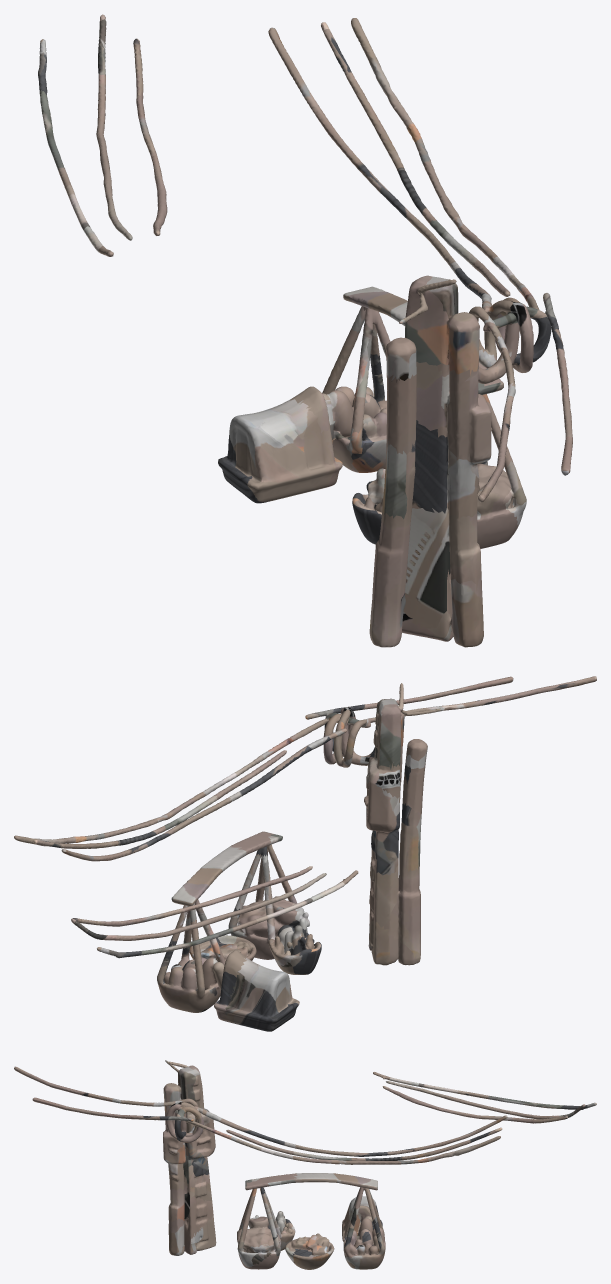
Rendered from hangrong.fbx.
The picture shows the model from 3 angles, top to bottom: view 1: azimuth 30°, elevation 25°; view 2: azimuth 150°, elevation 25°; view 3: azimuth 270°, elevation 25°; orthographic projection. The views are drawn at different scales.
Visible parts, largest first — view 1: tripo_node_246de54b-b4c3-48cb-89d5-7843d34fbd65; view 2: tripo_node_246de54b-b4c3-48cb-89d5-7843d34fbd65; view 3: tripo_node_246de54b-b4c3-48cb-89d5-7843d34fbd65.
Boxes of the visible parts, x1=… form: tripo_node_246de54b-b4c3-48cb-89d5-7843d34fbd65: x1=38, y1=14, x2=572, y2=647; tripo_node_246de54b-b4c3-48cb-89d5-7843d34fbd65: x1=14, y1=676, x2=596, y2=1031; tripo_node_246de54b-b4c3-48cb-89d5-7843d34fbd65: x1=14, y1=1060, x2=596, y2=1269.
Size of the model in its own units: 37.14 by 35.45 by 100.
